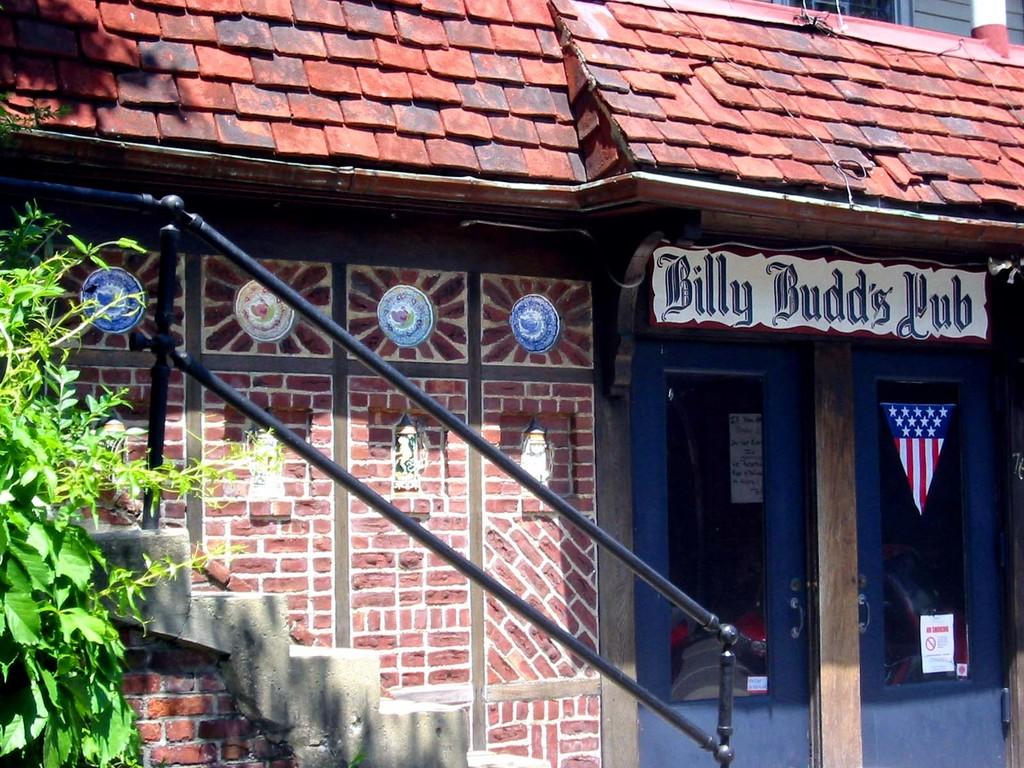handle: (782, 578, 812, 648), (859, 580, 876, 636)
